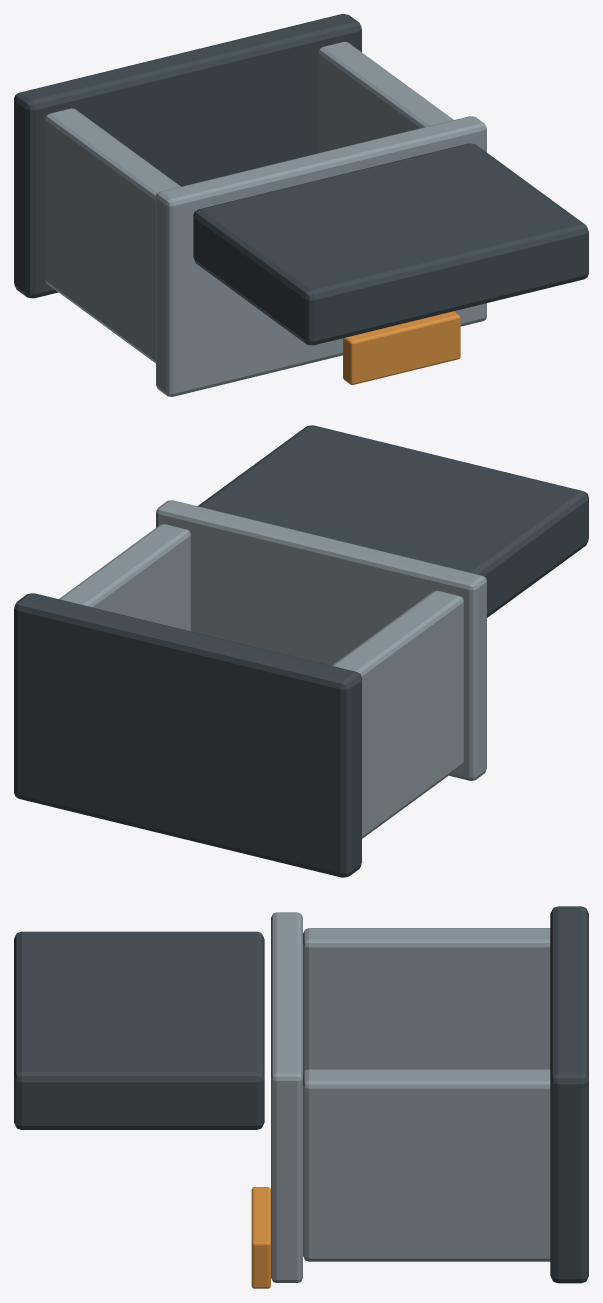
The model's file is fabrication_station_derelict_v1.glb.
3 views of the same model, one above another, from view 1: azimuth 30°, elevation 25°; view 2: azimuth 150°, elevation 25°; view 3: azimuth 270°, elevation 25° (orthographic). The views are drawn at different scales.
Visible parts, largest first — view 1: FabRearHousing, FabBase, FabWorkSurface, FabLeftFrame, FabRightFrame, FabTray; view 2: FabBase, FabRearHousing, FabWorkSurface, FabLeftFrame, FabRightFrame; view 3: FabRearHousing, FabRightFrame, FabLeftFrame, FabBase, FabWorkSurface, FabTray.
Part boxes in pixels (left/top/right/bottom): FabRearHousing: left=193, top=143, right=588, bottom=345; FabBase: left=14, top=14, right=361, bottom=298; FabWorkSurface: left=156, top=116, right=486, bottom=396; FabLeftFrame: left=45, top=108, right=180, bottom=363; FabRightFrame: left=318, top=41, right=453, bottom=153; FabTray: left=343, top=311, right=460, bottom=384; FabBase: left=14, top=593, right=361, bottom=877; FabRearHousing: left=197, top=425, right=588, bottom=617; FabWorkSurface: left=156, top=500, right=486, bottom=780; FabLeftFrame: left=332, top=590, right=463, bottom=838; FabRightFrame: left=59, top=524, right=190, bottom=631; FabRearHousing: left=14, top=931, right=264, bottom=1129; FabRightFrame: left=303, top=1069, right=550, bottom=1261; FabLeftFrame: left=303, top=928, right=550, bottom=1074; FabBase: left=550, top=906, right=588, bottom=1283; FabWorkSurface: left=271, top=912, right=302, bottom=1282; FabTray: left=251, top=1187, right=270, bottom=1288.
Size of the model in its own units: 1.28 by 0.81 by 1.79.
